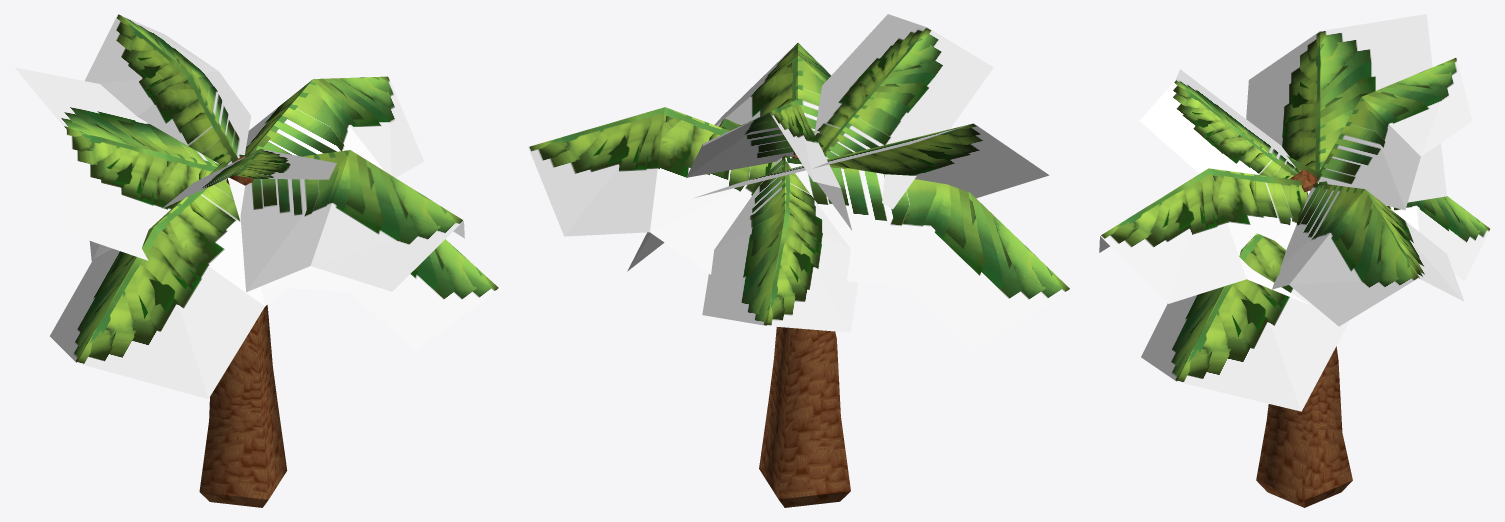
File: VEG_TRE_Palm_LOD02.FBX
3 renders of one model, left to right at view 1: azimuth 30°, elevation 25°; view 2: azimuth 150°, elevation 25°; view 3: azimuth 270°, elevation 25°, orthographic. The views are drawn at different scales.
Parts seen in each view (by area): view 1: VEG_TRE_Palm_LOD02; view 2: VEG_TRE_Palm_LOD02; view 3: VEG_TRE_Palm_LOD02.
Boxes of the visible parts, x1,y1,x2,y2 form: VEG_TRE_Palm_LOD02: (14, 14, 499, 507); VEG_TRE_Palm_LOD02: (528, 14, 1070, 507); VEG_TRE_Palm_LOD02: (1099, 14, 1490, 507).
Bounding box in the file's own units: 2638 × 2630 × 2256.
